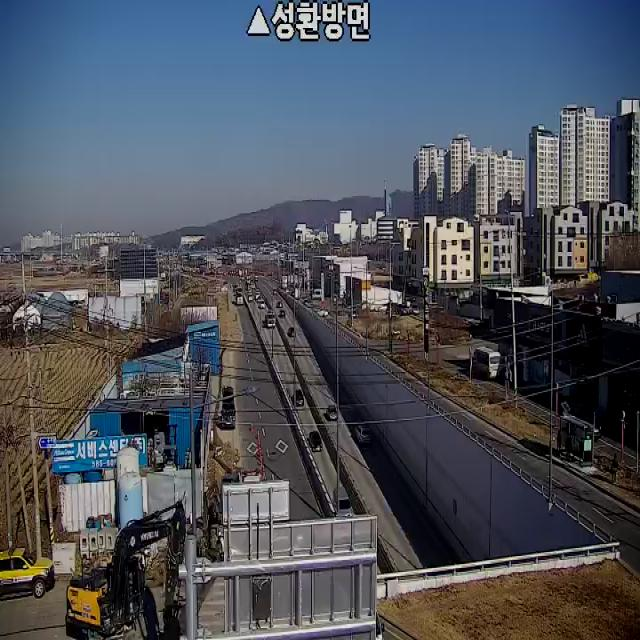Bus: (473, 347, 500, 379)
Car: (0, 546, 55, 601), (333, 486, 355, 515), (355, 424, 371, 447), (309, 431, 323, 452), (324, 409, 338, 421), (295, 390, 304, 406), (257, 296, 266, 310), (287, 327, 296, 337), (278, 310, 286, 318), (276, 302, 283, 308)
Truck: (57, 486, 181, 640), (222, 385, 235, 429), (262, 311, 276, 329), (234, 286, 242, 306)
